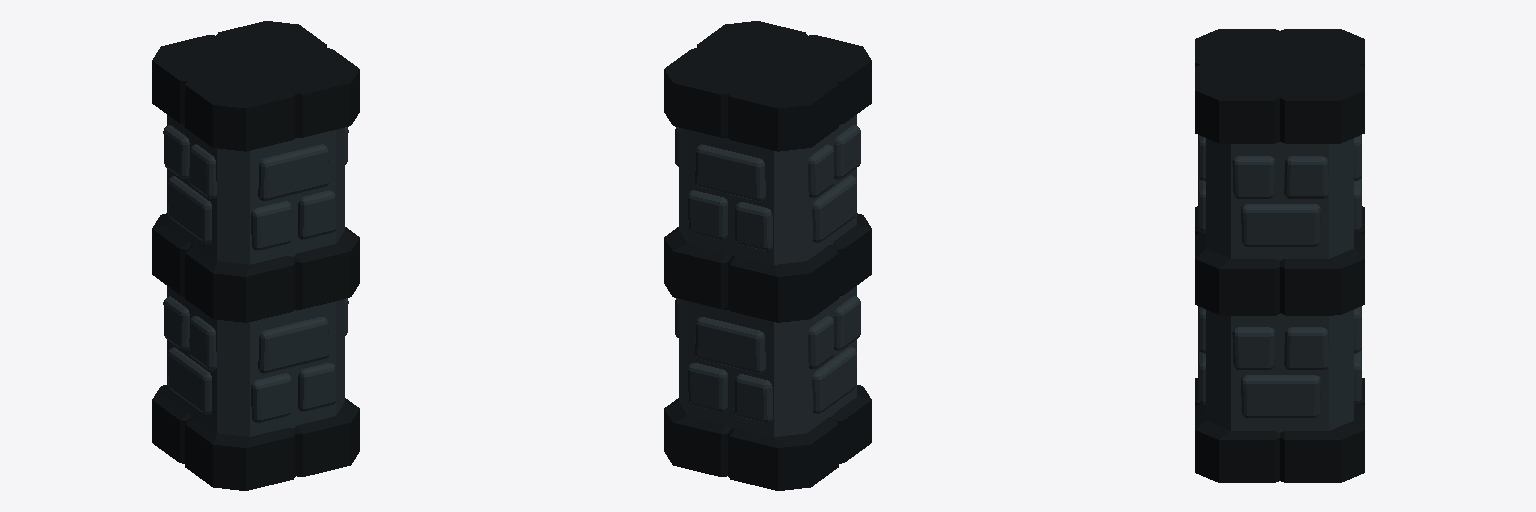
Rendered from pillar.obj.
3 views of the same model, side by side, from view 1: azimuth 30°, elevation 25°; view 2: azimuth 150°, elevation 25°; view 3: azimuth 270°, elevation 25° (orthographic).
Visible parts, largest first — view 1: pillar_Cube.4164; view 2: pillar_Cube.4164; view 3: pillar_Cube.4164.
Part boxes in pixels (bbox=[...]): pillar_Cube.4164: bbox=[152, 21, 359, 490]; pillar_Cube.4164: bbox=[664, 21, 871, 490]; pillar_Cube.4164: bbox=[1195, 29, 1364, 482].
Size of the model in its own units: 1.61 by 4 by 1.61.